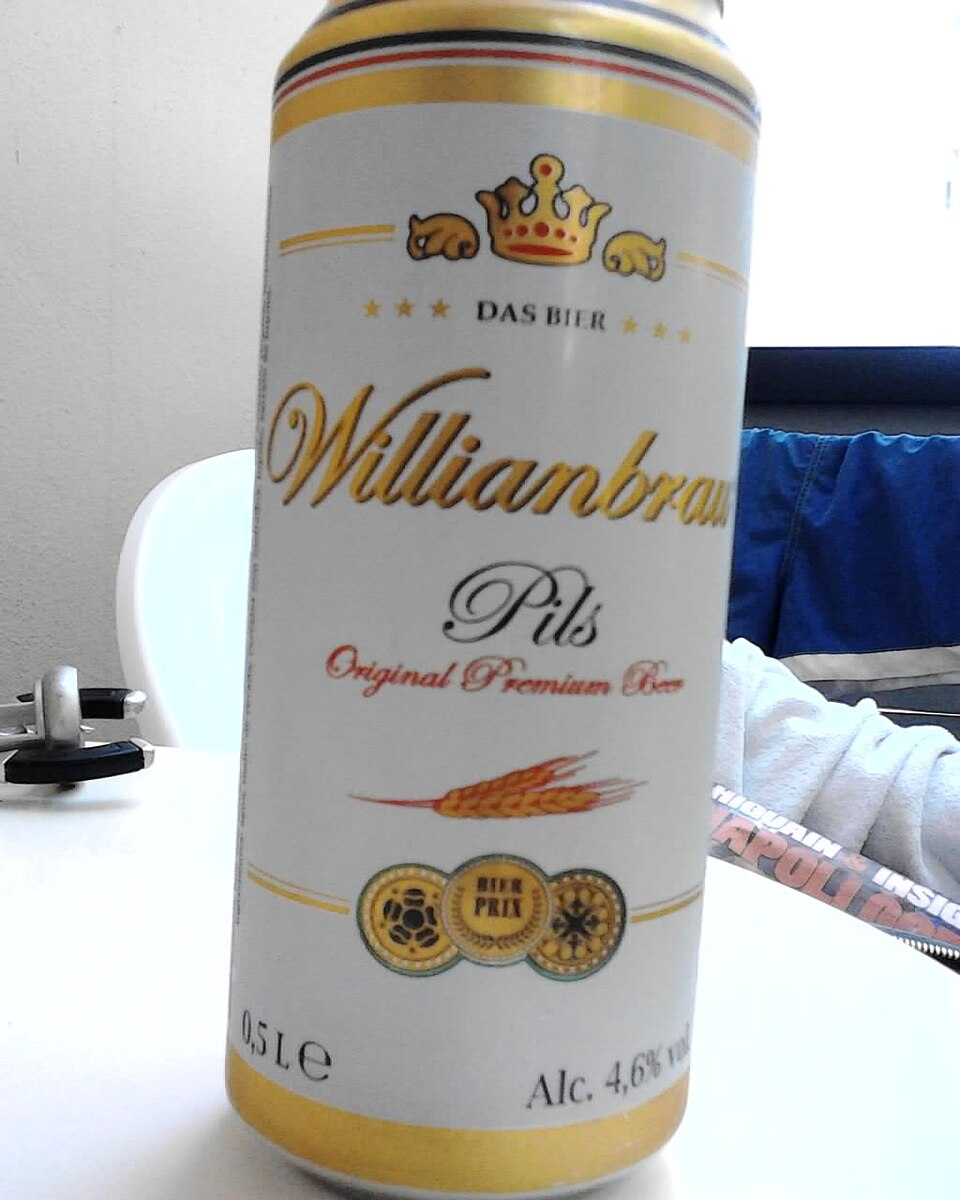beer-can: (239, 0, 769, 1175)
